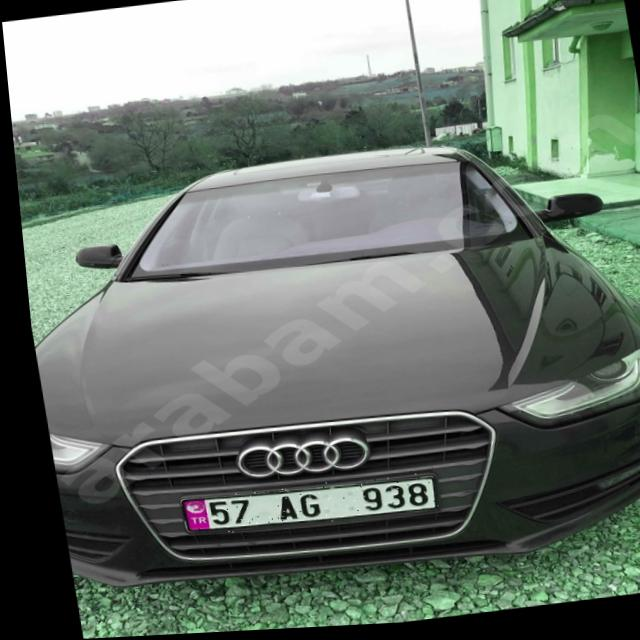license_plate: (167, 472, 428, 541)
